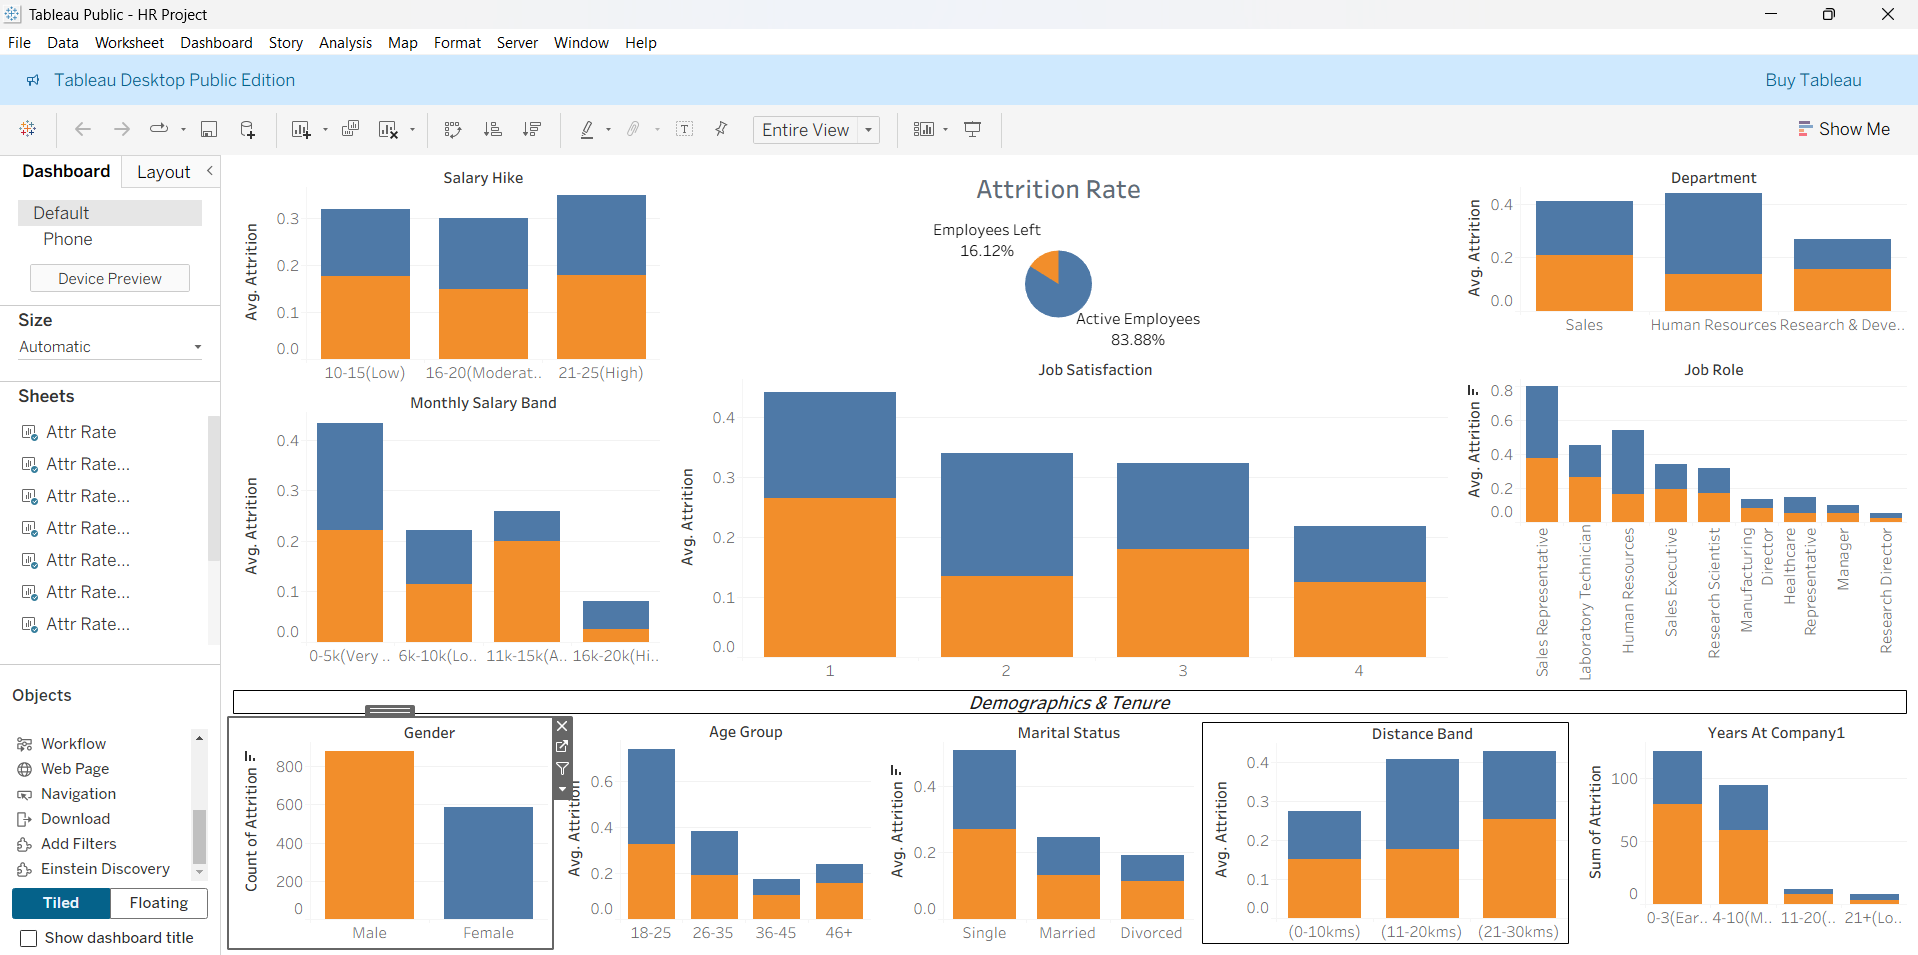

The dashboard page shown, as its layout file describes it:
{"tool":"tableau","page":{"name":"Dashboard 1","canvas":[1000,1000],"units":"permille","ordinal":0},"visuals":[{"type":"worksheet","title":"Attr Rate by  Salary Hike ","mark":"Automatic","rows":["Attrition"],"cols":["Salary_Hike"],"box":[4.7,10,256.5,280.9]},{"type":"worksheet","title":"Attr Rate","mark":"Pie","box":[261.2,10,463.8,239.7]},{"type":"worksheet","title":"Attr Rate by Dept","mark":"Automatic","rows":["Attrition"],"cols":["Department"],"box":[725,10,270.3,239.7]},{"type":"worksheet","title":"Attr Rate by Job Satisfaction","mark":"Automatic","rows":["Attrition"],"cols":["JobSatisfaction"],"box":[261.2,249.7,463.8,413.2]},{"type":"worksheet","title":"Attr Rate by Job Role","mark":"Automatic","rows":["Attrition"],"cols":["JobRole"],"box":[725,249.7,270.3,413.2]},{"type":"worksheet","title":"Attr Rate by Salary Band","mark":"Automatic","rows":["Attrition"],"cols":["Monthly_Salary_Band"],"box":[4.7,290.9,256.5,372]},{"type":"text","box":[4.7,662.9,990.6,39.9]},{"type":"worksheet","title":"Atrr Rate by Gender","mark":"Automatic","rows":["Attrition"],"cols":["Gender"],"box":[4.7,702.9,190.2,287.1]},{"type":"worksheet","title":"Attr Rate by Age Group","mark":"Automatic","rows":["Attrition"],"cols":["Age_Group"],"box":[194.9,702.9,190.3,287.1]},{"type":"worksheet","title":"Attr Rate by Marital Status","mark":"Automatic","rows":["Attrition"],"cols":["MaritalStatus"],"box":[385.2,702.9,190.3,287.1]},{"type":"worksheet","title":"Attr Rate by Distance band ","mark":"Automatic","rows":["Attrition"],"cols":["Distance_Band"],"box":[575.5,702.9,221,287.1]},{"type":"worksheet","title":"Attr Rate by Years At Co","mark":"Automatic","rows":["Attrition"],"cols":["Years_At_Company"],"box":[796.5,702.9,198.8,287.1]}]}

Visuals, with their boxes on the dashboard's canvas, which has no fixed pixel size, in thousandths of its width and height (x1, y1, x2, y2). These are canvas units, not pixel positions in the 1918x955 screenshot, which may show the page scaled, cropped or inside an application window:
"Attr Rate by  Salary Hike " worksheet: detection(5, 10, 261, 291)
"Attr Rate" worksheet (Pie marks): detection(261, 10, 725, 250)
"Attr Rate by Dept" worksheet: detection(725, 10, 995, 250)
"Attr Rate by Job Satisfaction" worksheet: detection(261, 250, 725, 663)
"Attr Rate by Job Role" worksheet: detection(725, 250, 995, 663)
"Attr Rate by Salary Band" worksheet: detection(5, 291, 261, 663)
text: detection(5, 663, 995, 703)
"Atrr Rate by Gender" worksheet: detection(5, 703, 195, 990)
"Attr Rate by Age Group" worksheet: detection(195, 703, 385, 990)
"Attr Rate by Marital Status" worksheet: detection(385, 703, 576, 990)
"Attr Rate by Distance band " worksheet: detection(576, 703, 796, 990)
"Attr Rate by Years At Co" worksheet: detection(796, 703, 995, 990)
